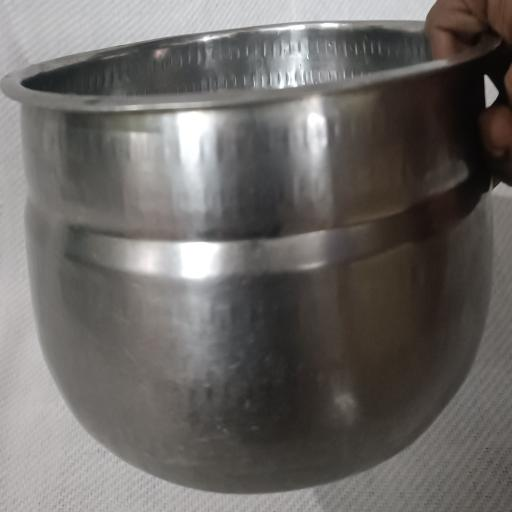vessel: (2, 22, 499, 492)
